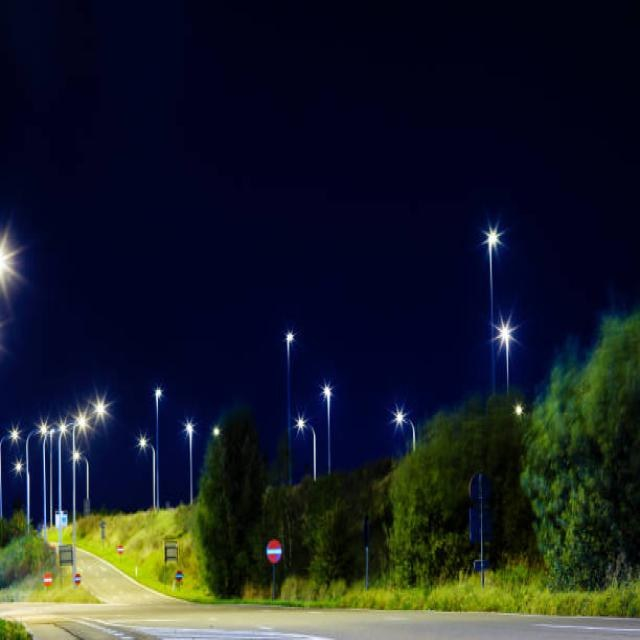acesa: (0, 222, 28, 298), (385, 399, 415, 446), (490, 312, 520, 351), (86, 392, 112, 428), (479, 222, 507, 254), (6, 423, 25, 450), (294, 411, 310, 436), (282, 326, 298, 348), (180, 417, 197, 435), (321, 381, 334, 402), (136, 432, 148, 451), (512, 402, 526, 418), (154, 385, 164, 404), (40, 422, 48, 436)
